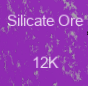Silicate: (7, 14, 84, 69)
